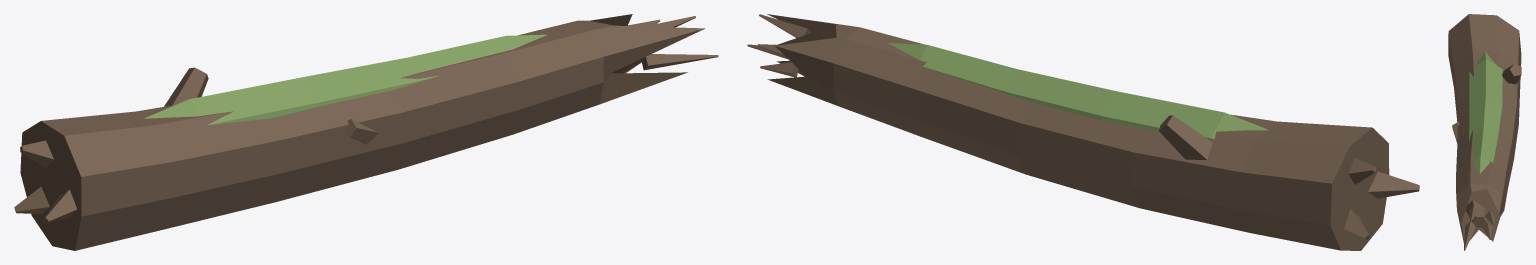
The model's file is dead_log.glb.
The picture shows the model from 3 angles, left to right: view 1: azimuth 30°, elevation 25°; view 2: azimuth 150°, elevation 25°; view 3: azimuth 270°, elevation 25°; orthographic projection. The views are drawn at different scales.
Visible parts, largest first — view 1: dead_log; view 2: dead_log; view 3: dead_log.
Part boxes in pixels (x1=…): dead_log: x1=14, y1=14, x2=718, y2=250; dead_log: x1=747, y1=14, x2=1419, y2=250; dead_log: x1=1448, y1=14, x2=1521, y2=250.
Size of the model in its own units: 3.95 by 0.6823 by 0.6118.
